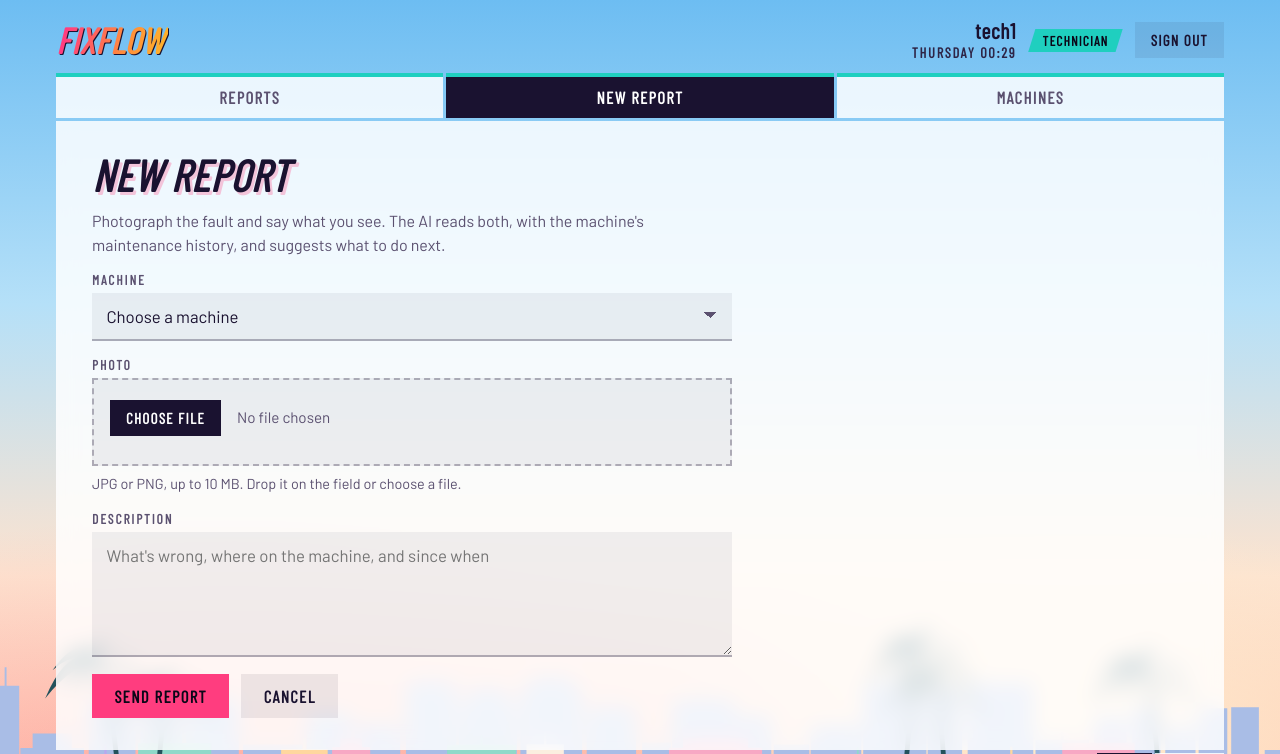
new report page › asks for a photo when sent without one
Expected: the heading "New report" is shown, [92,148,289,201]
Step 1. Select "CNC Lathe 01 · Hall A" in the dropdown labelled "Machine" → (412, 317), box [92,293,732,341]
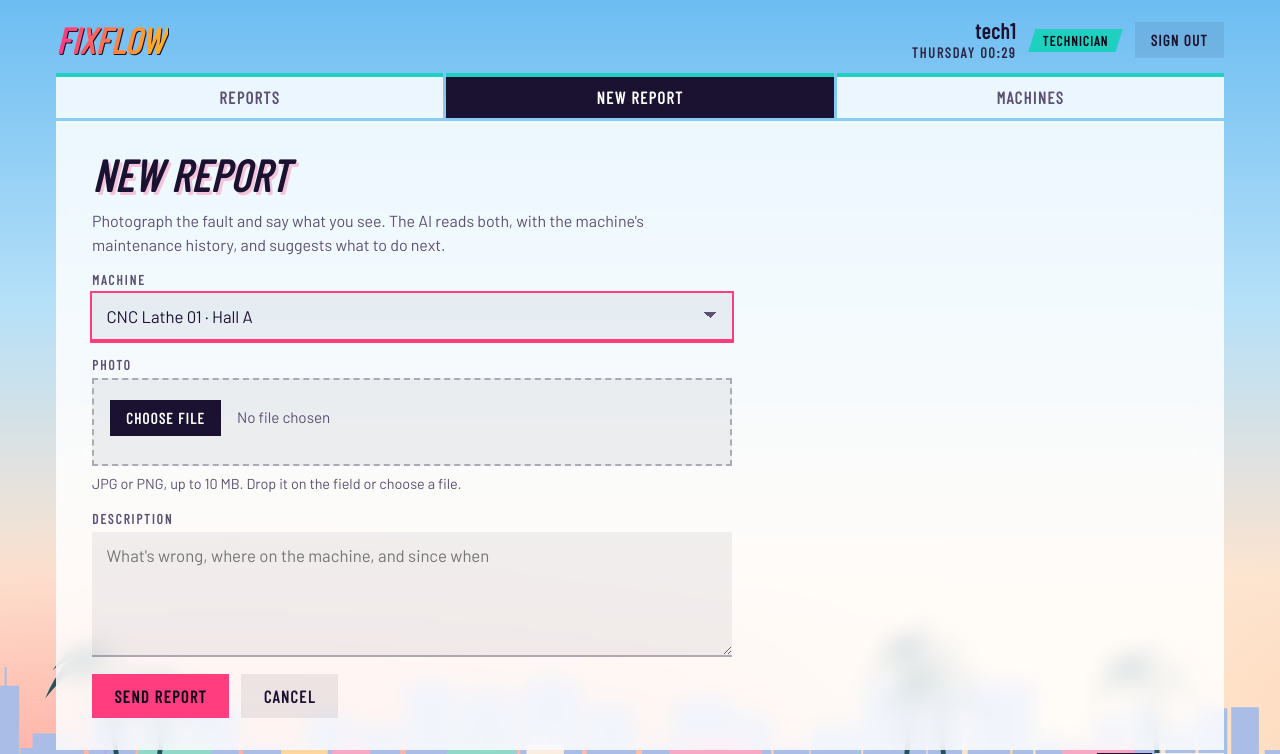
Step 2. Type "Coolant pump does not start" into the text box labelled "Description" → (412, 594), box [92,532,732,657]
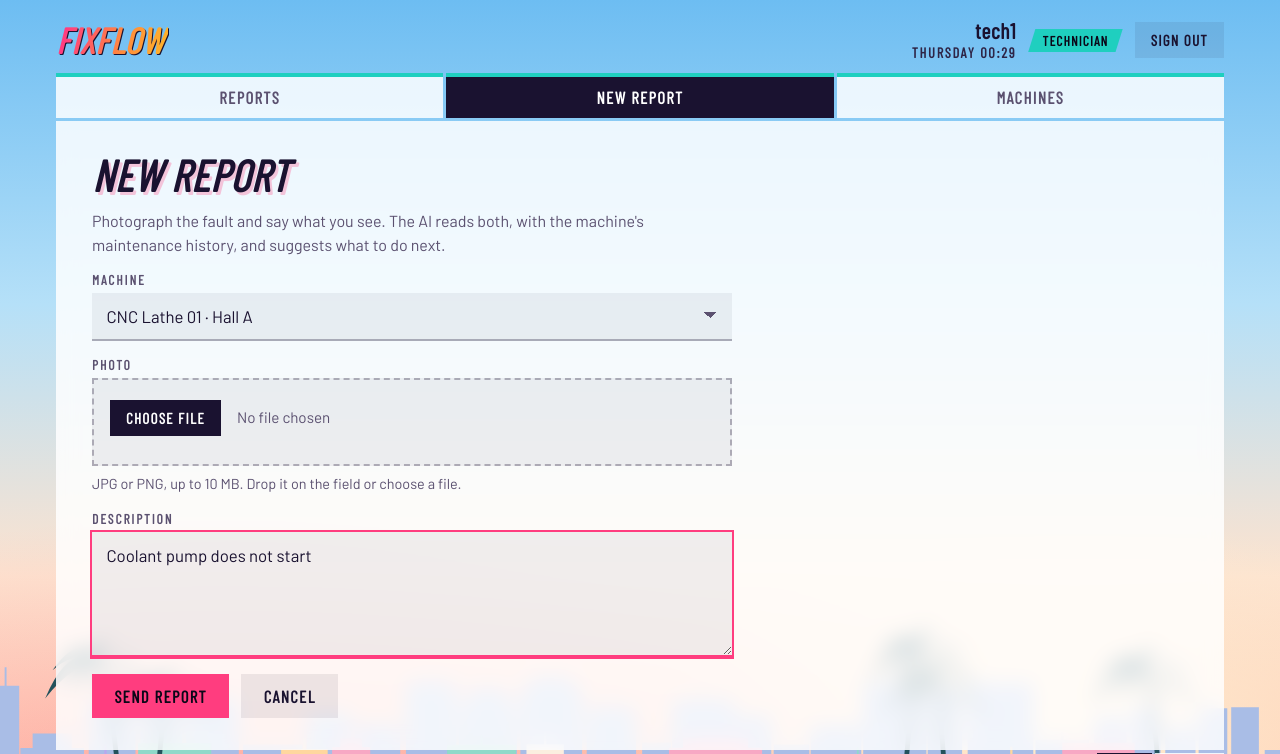
Step 3. Click the button "Send report" → (161, 696), box [92,674,229,718]
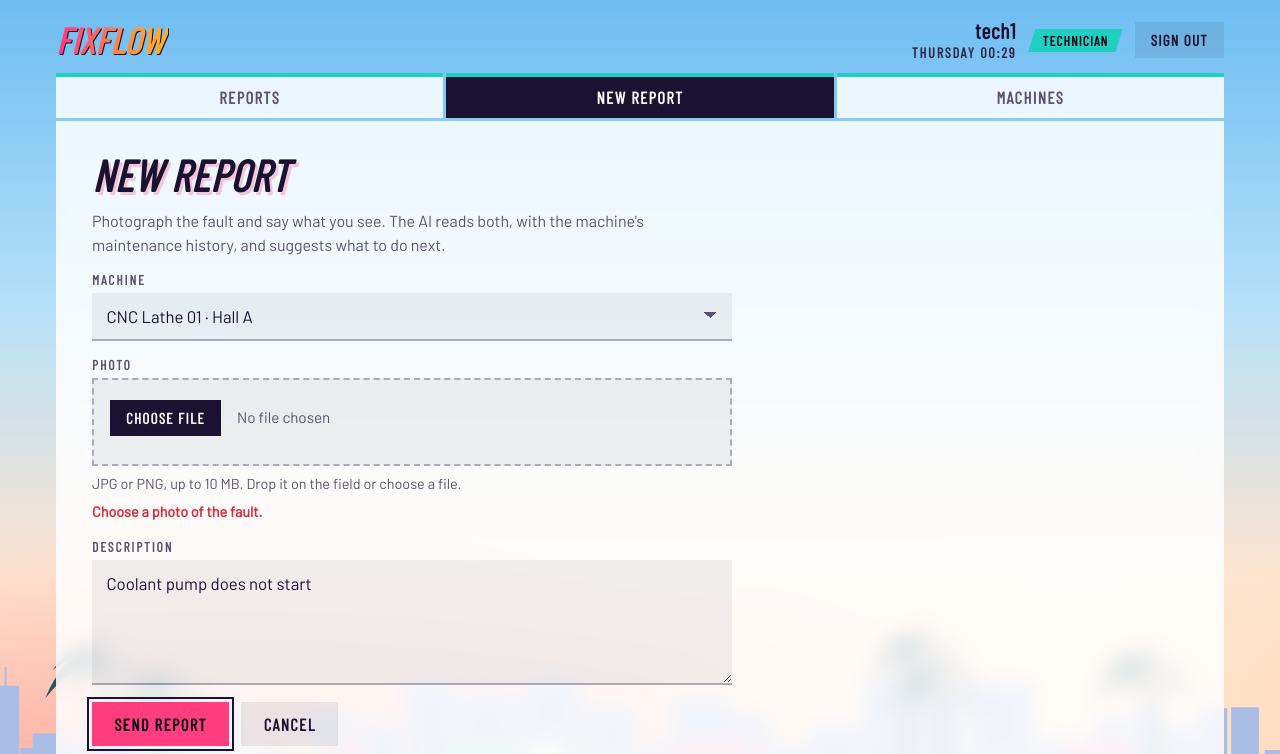
Now the message reads "Choose a photo of the fault.", box [92,502,262,520]
